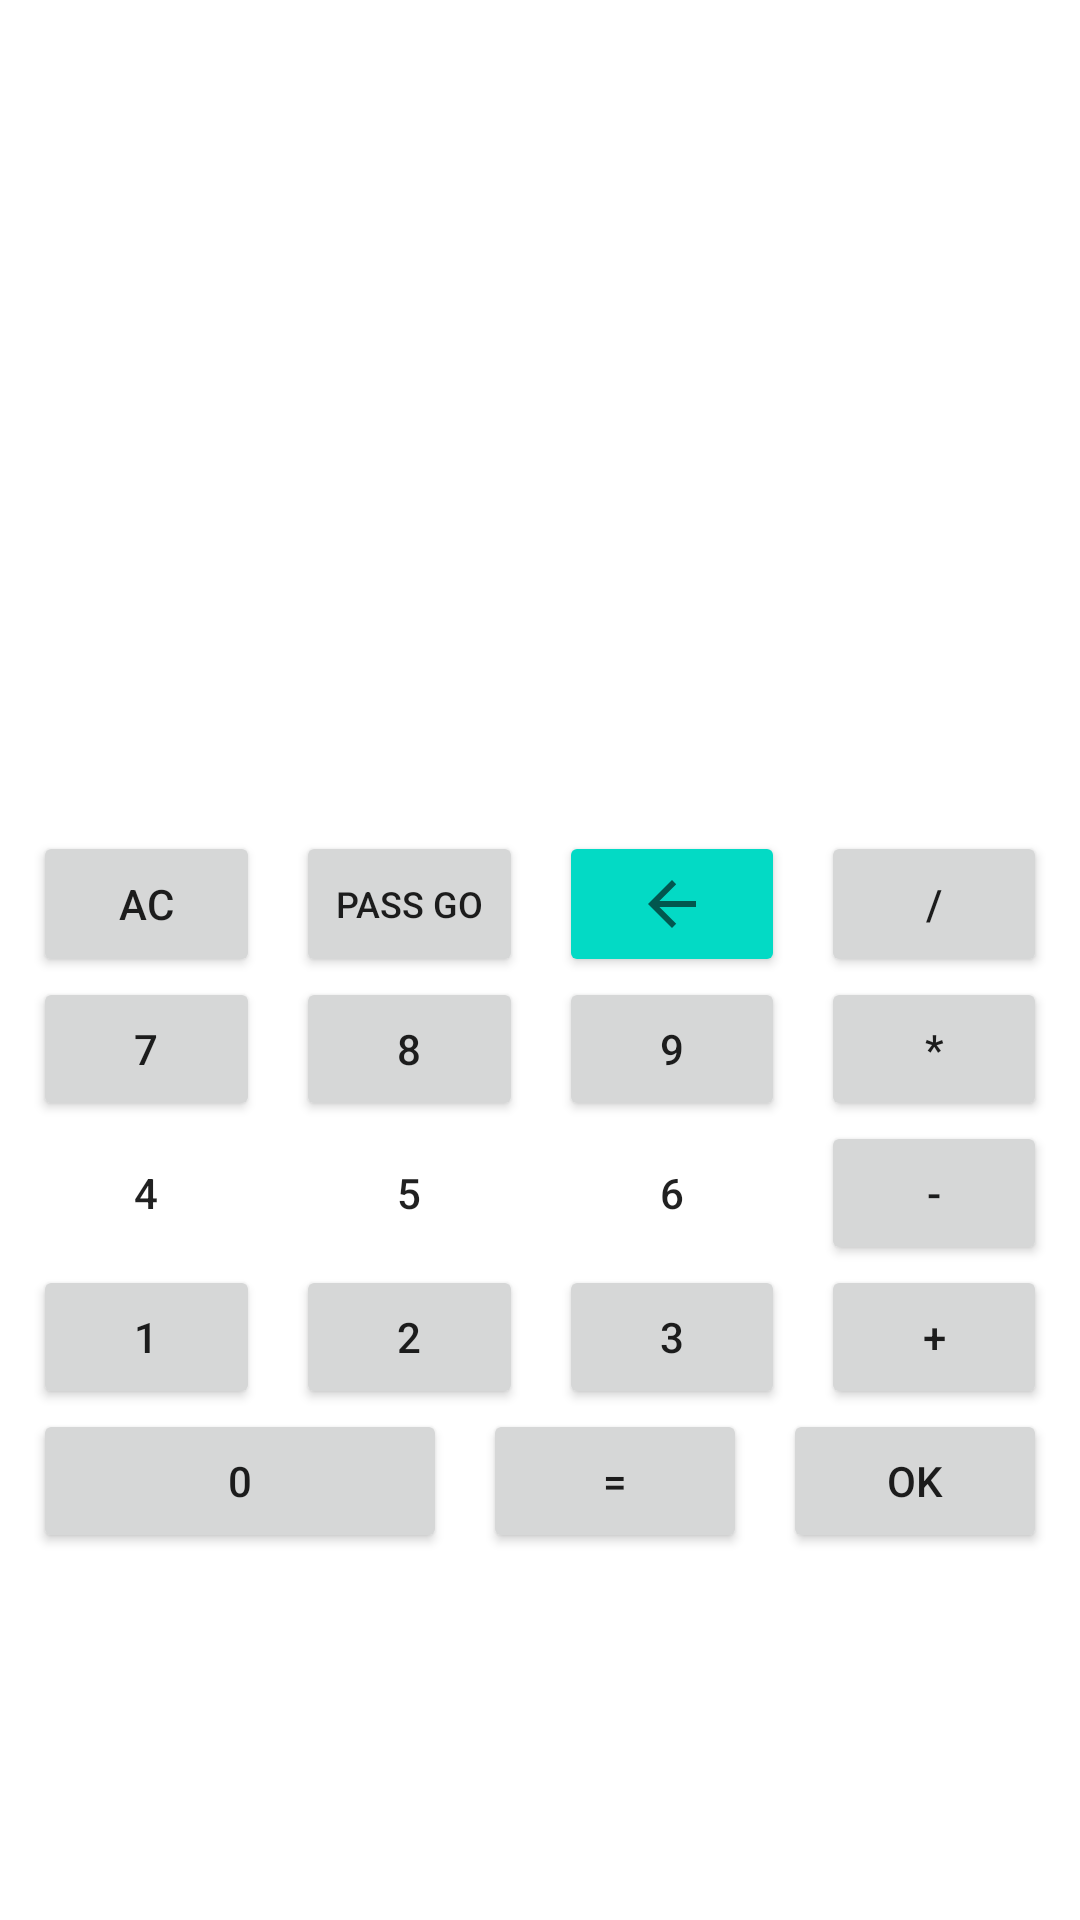

Locate icon controls on the screen. Image size 1080 x 1920, boxes as (x1, y1, x2, y2).
Erase last number: (571, 849, 774, 961)
